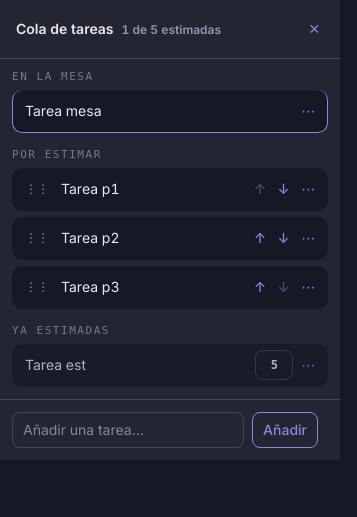
IssueListPanel: gestión de tareas › ofrece Borrar solo en las tareas que nunca se han votado
Step 1. Click the button "⋯" in the row of "Tarea est" → (308, 365), box [297, 350, 319, 380]
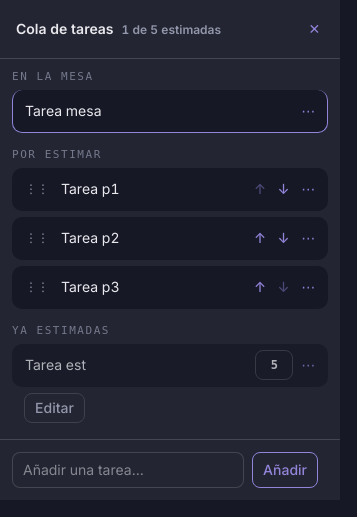
expect the button "Borrar" is not shown: met
expect the button "Editar" is shown: met, box [24, 393, 85, 423]
Step 2. Click the button "⋯" in the row of "Tarea est" → (308, 365), box [297, 350, 319, 380]
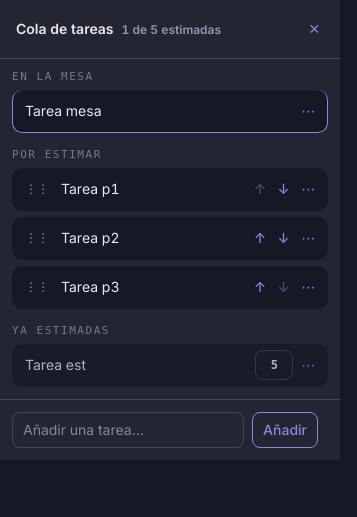
Step 3. Click the button "⋯" in the row of "Tarea mesa" → (308, 111), box [297, 96, 319, 126]
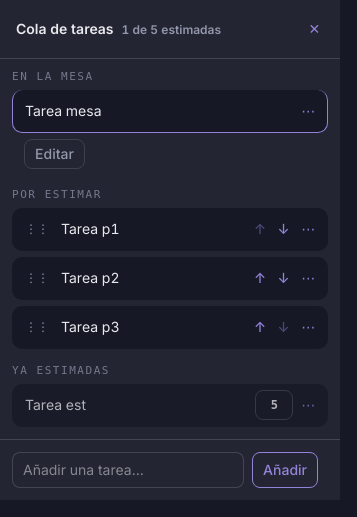
expect the button "Borrar" is not shown: met
expect the button "Editar" is shown: met, box [24, 139, 85, 169]
Step 4. Click the button "⋯" in the row of "Tarea mesa" → (308, 111), box [297, 96, 319, 126]
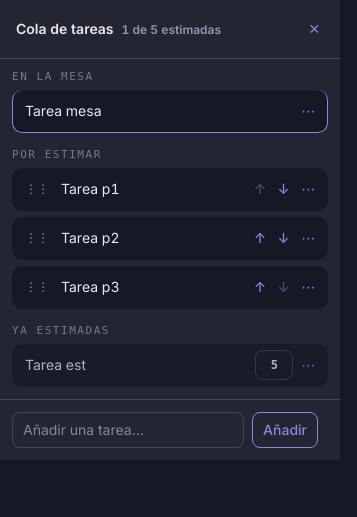
Step 5. Click the button "⋯" in the row of "Tarea p1" → (308, 189), box [297, 174, 319, 204]
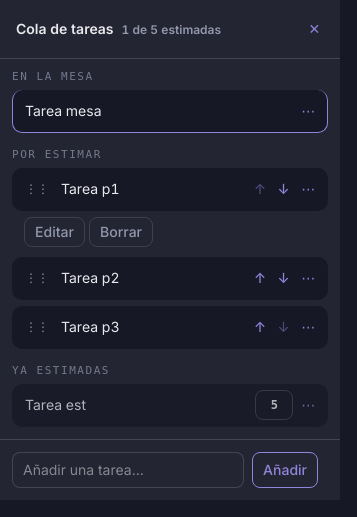
expect the button "Editar" is shown: met, box [24, 217, 85, 247]
expect the button "Borrar" is shown: met, box [89, 217, 153, 247]
